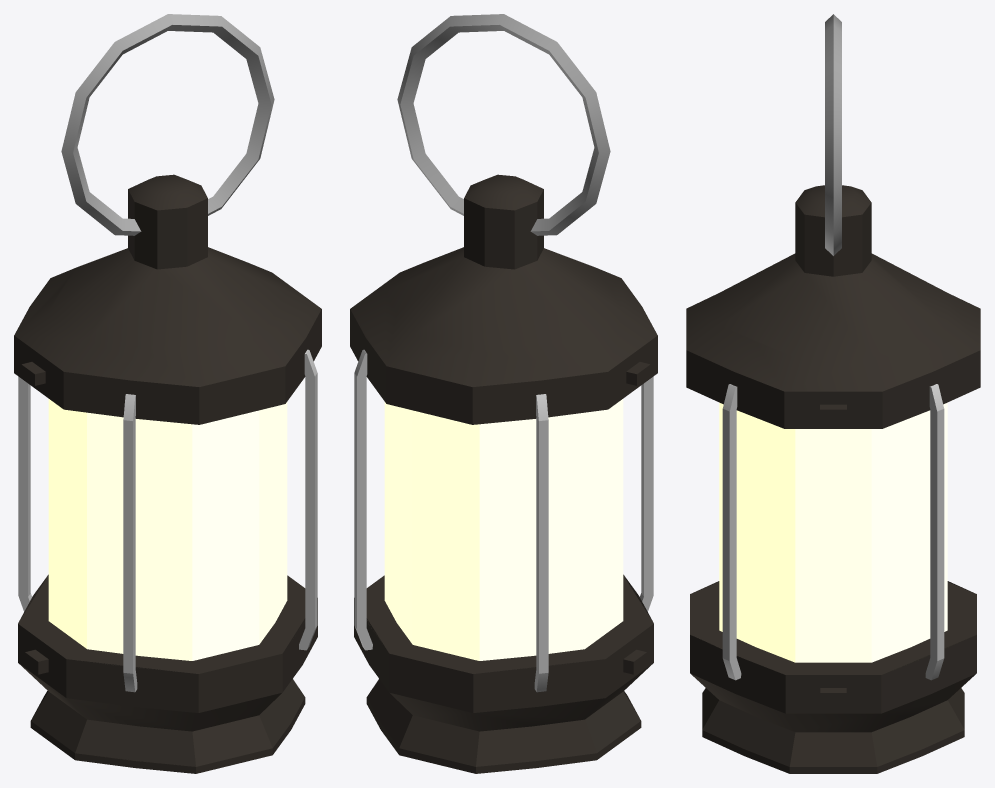
Rendered from Lantern.fbx.
3 views of the same model, side by side, from view 1: azimuth 30°, elevation 25°; view 2: azimuth 150°, elevation 25°; view 3: azimuth 270°, elevation 25° (orthographic).
Parts seen in each view (by area): view 1: Lantern, Bars, Handle; view 2: Lantern, Bars, Handle; view 3: Lantern, Bars, Handle.
Part boxes in pixels (box(x1,y1,x2,y2)): Lantern: box(14, 174, 321, 773); Bars: box(18, 349, 317, 692); Handle: box(61, 14, 274, 235); Lantern: box(350, 174, 657, 773); Bars: box(354, 349, 653, 692); Handle: box(397, 14, 610, 235); Lantern: box(686, 185, 980, 773); Bars: box(722, 384, 944, 680); Handle: box(825, 14, 841, 255).
Size of the model in its own units: 50.36 by 121 by 46.46.
